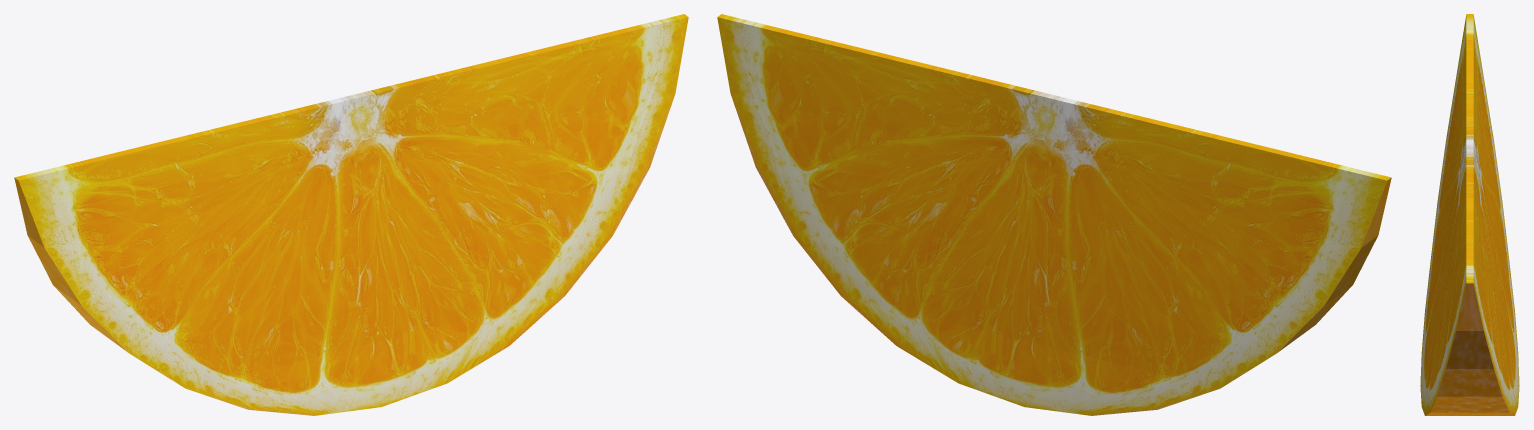
The picture shows the model from 3 angles, left to right: view 1: azimuth 30°, elevation 25°; view 2: azimuth 150°, elevation 25°; view 3: azimuth 270°, elevation 25°; orthographic projection. The views are drawn at different scales.
Visible parts, largest first — view 1: Slice, Peel; view 2: Slice, Peel; view 3: Slice, Peel.
Boxes of the visible parts, x1,y1,x2,y2 form: Slice: [14, 14, 688, 415]; Peel: [14, 178, 128, 352]; Slice: [717, 14, 1391, 415]; Peel: [1277, 178, 1391, 352]; Slice: [1420, 14, 1519, 415]; Peel: [1425, 283, 1514, 415].
Bounding box in the file's own units: 1.96 × 0.8049 × 0.3047.
2 materials, 2 textured.
